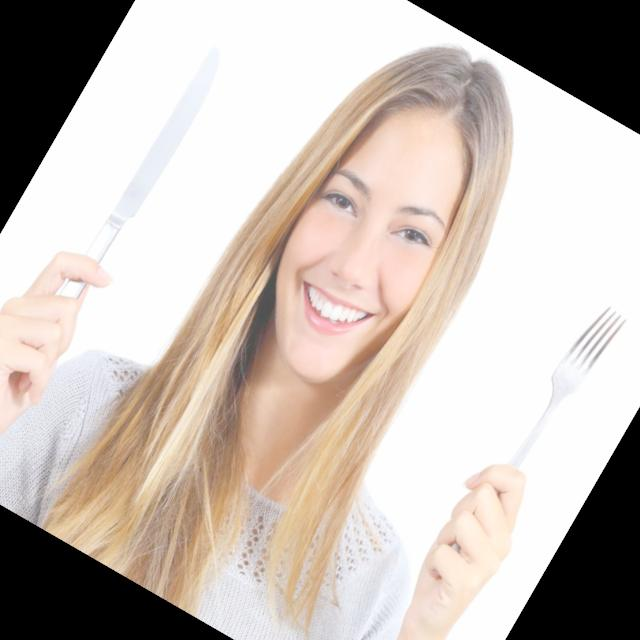fork: (432, 296, 630, 598)
